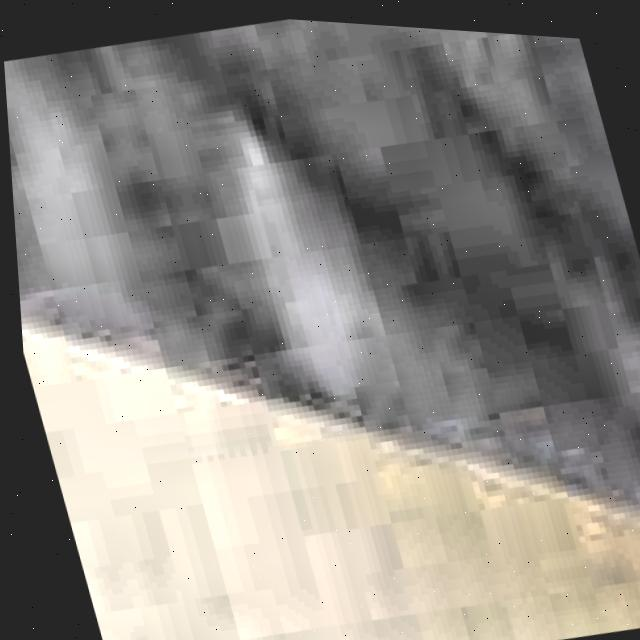paper: (3, 15, 640, 514)
